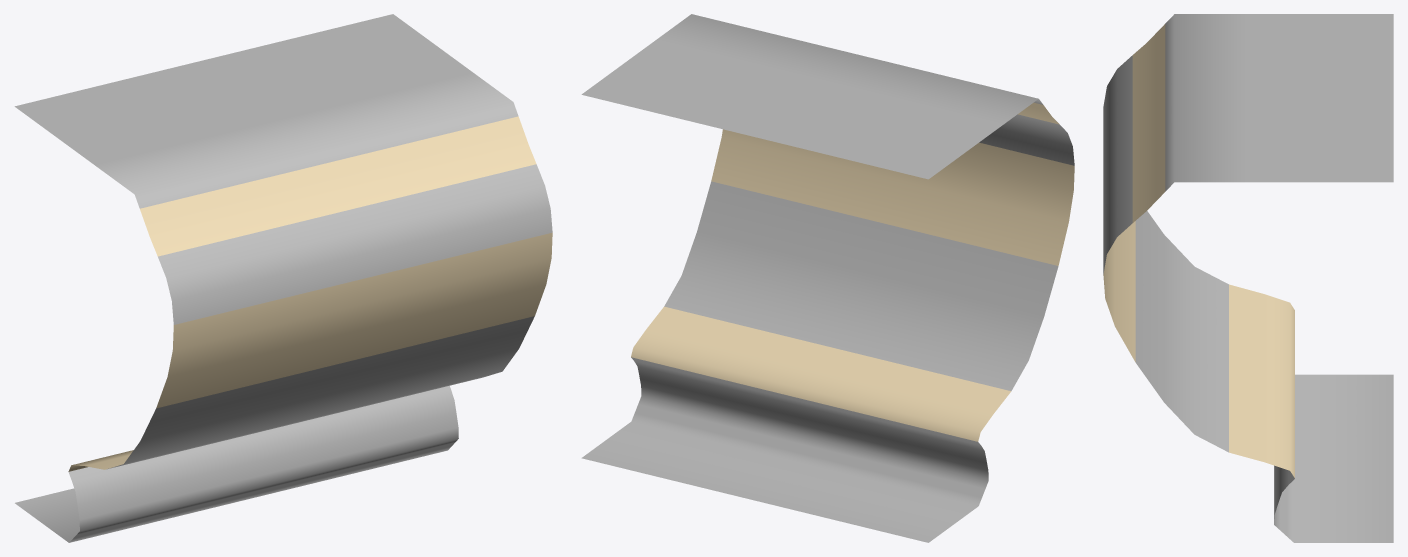
The model's file is pf_rail_b.glb.
3 renders of one model, left to right at view 1: azimuth 30°, elevation 25°; view 2: azimuth 150°, elevation 25°; view 3: azimuth 270°, elevation 25°, orthographic. The views are drawn at different scales.
Visible parts, largest first — view 1: pf_rail_b; view 2: pf_rail_b; view 3: pf_rail_b.
Part boxes in pixels (x1,y1,x2,y2): pf_rail_b: (14,14,552,542); pf_rail_b: (581,14,1074,542); pf_rail_b: (1103,14,1393,542).
Size of the model in its own units: 1 by 1 by 0.7289.
